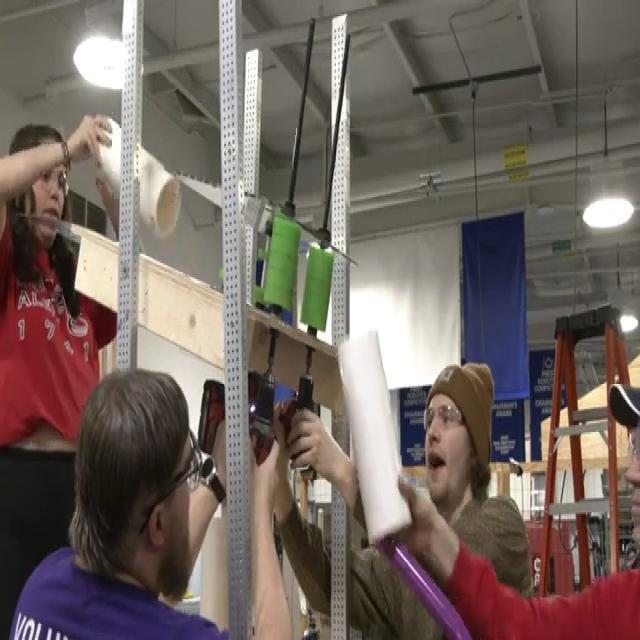Coral: (336, 325, 414, 544), (97, 120, 182, 237)
